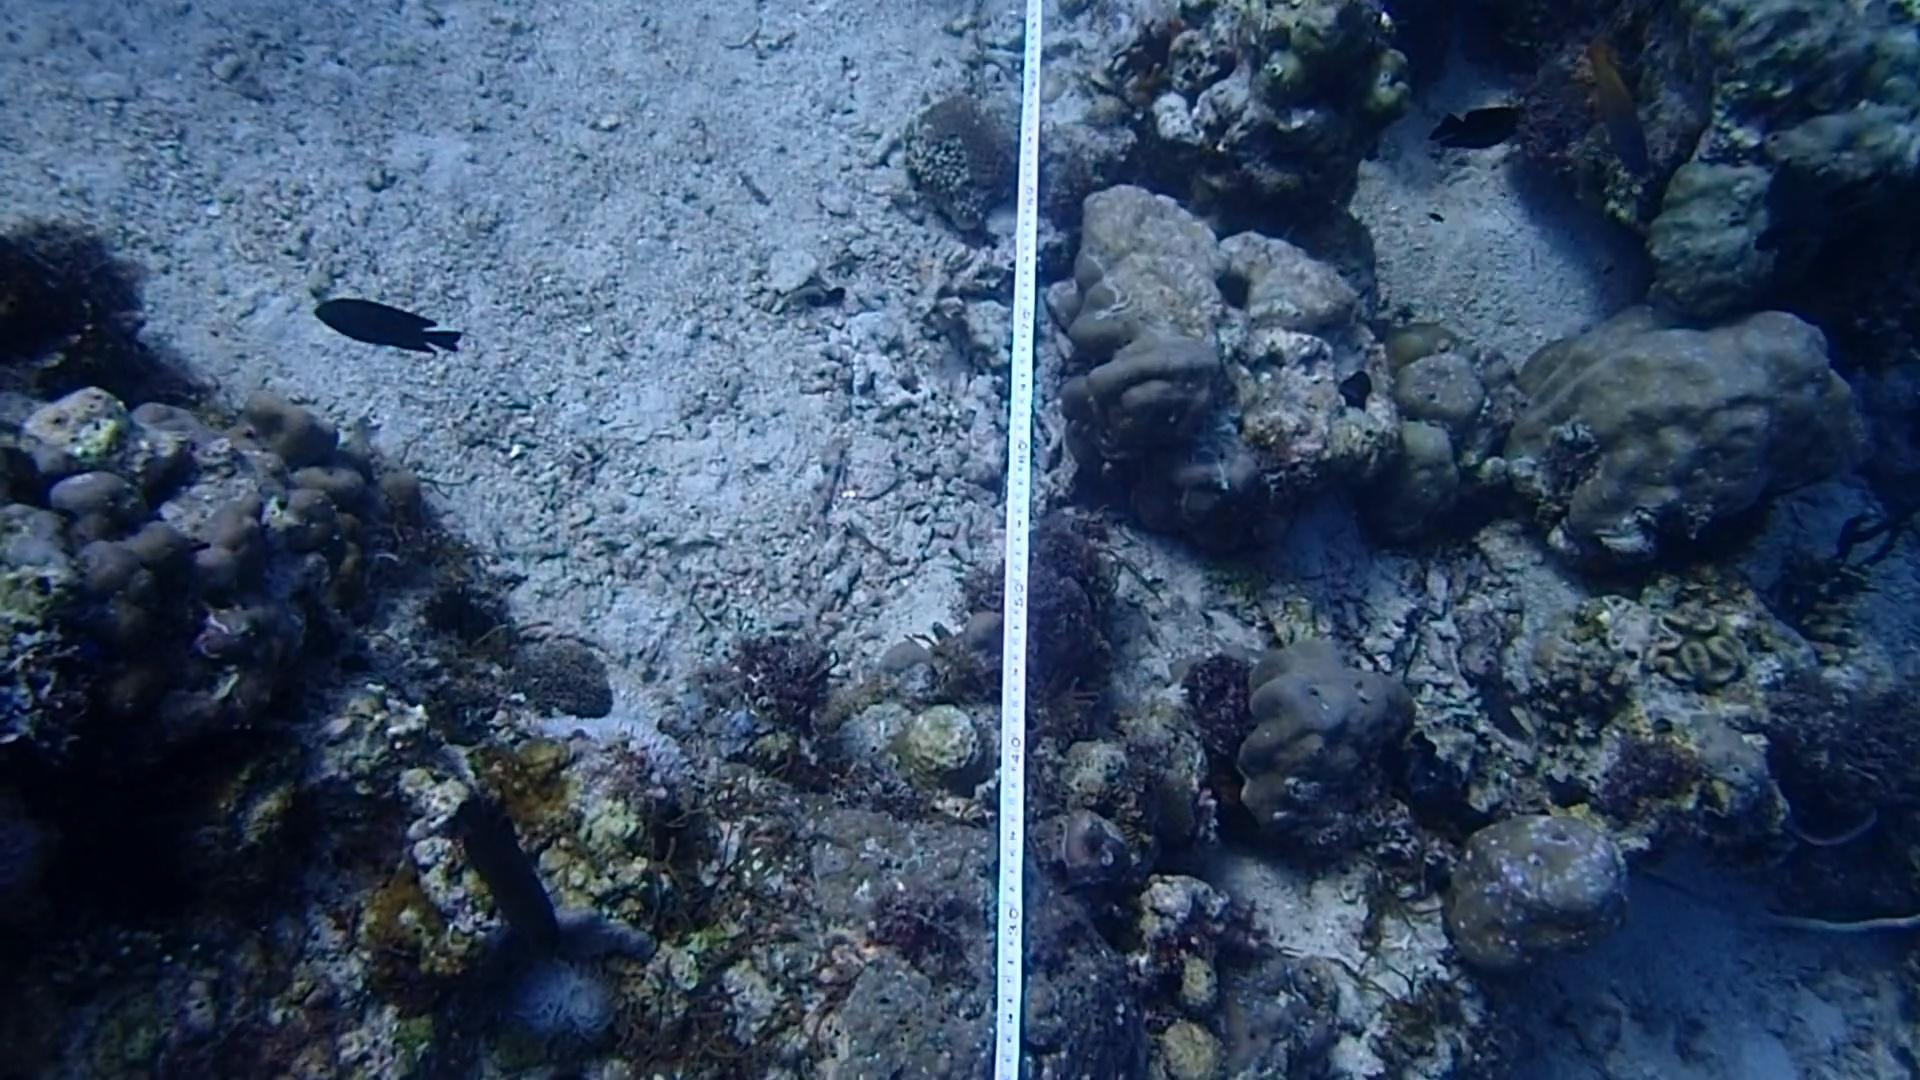Dark Fish: (442, 790, 579, 967), (299, 287, 459, 368), (1423, 92, 1526, 162)
Half Blue - Half Yellow: (1577, 37, 1660, 187)
